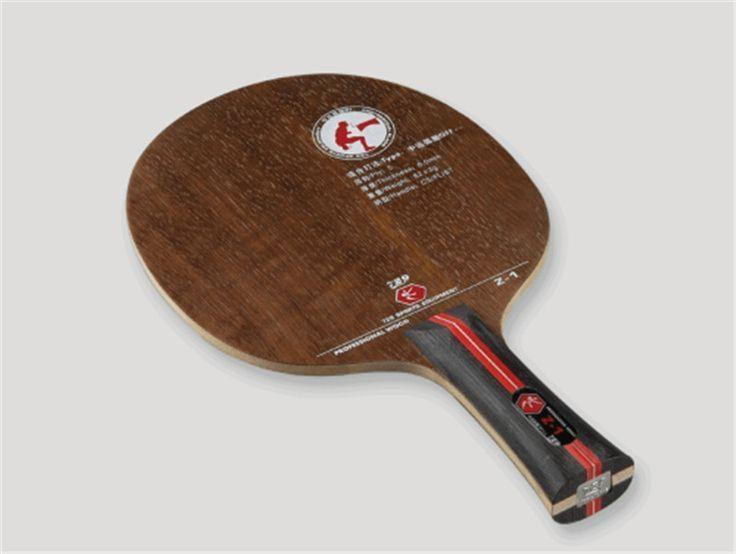Tennis-Racket: (109, 66, 644, 528)
